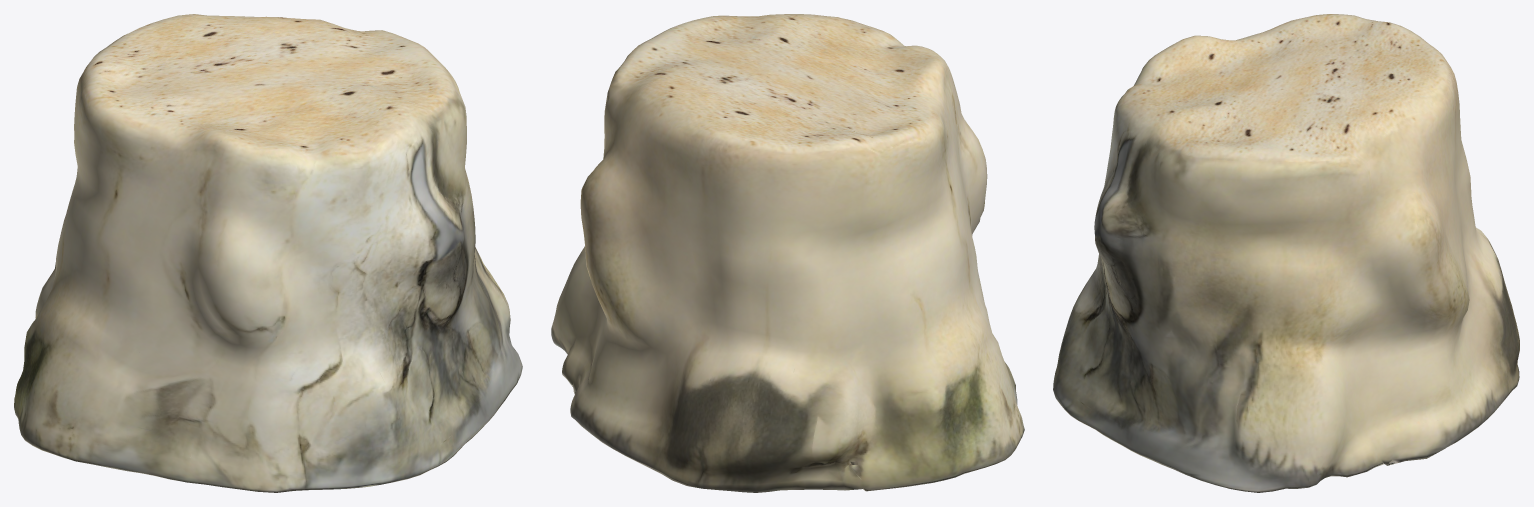
The model's file is fig_323.glb.
3 views of the same model, side by side, from view 1: azimuth 30°, elevation 25°; view 2: azimuth 150°, elevation 25°; view 3: azimuth 270°, elevation 25° (orthographic). The views are drawn at different scales.
Size of the model in its own units: 1.99 by 1.35 by 1.83.
1 material, 1 textured.
